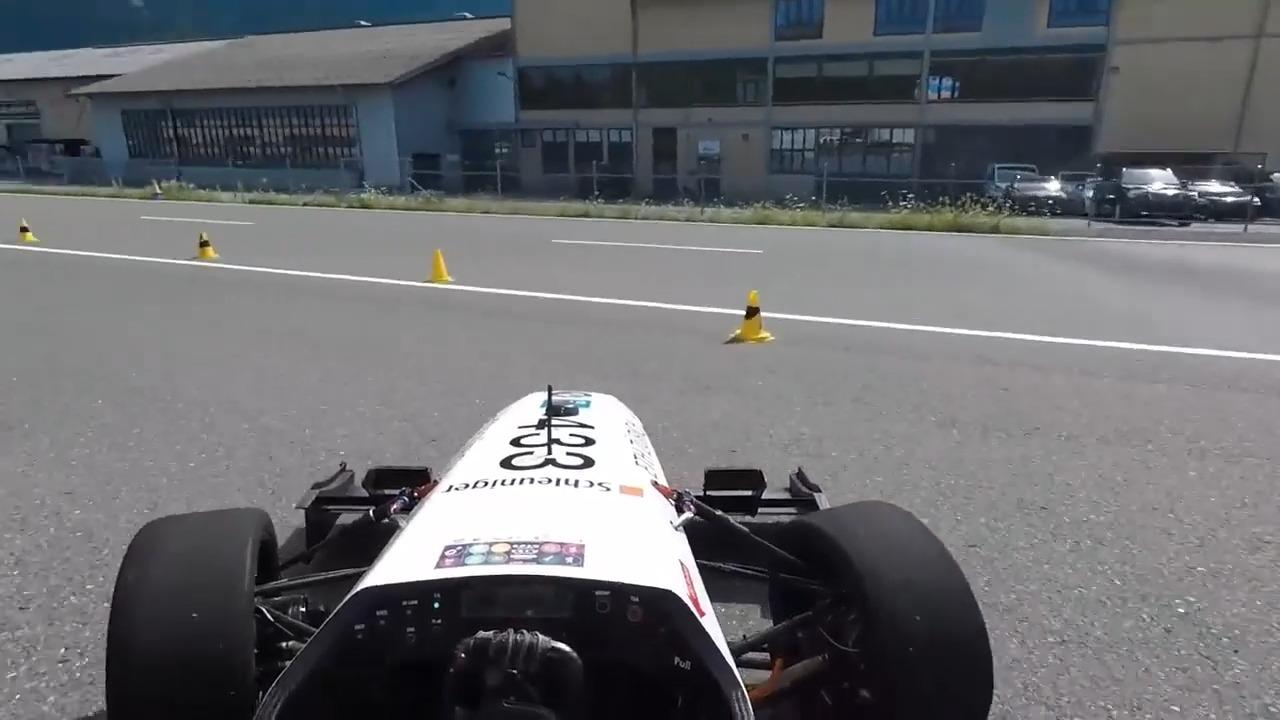yellow_cone: (709, 267, 780, 343), (11, 199, 62, 249), (417, 241, 463, 277), (185, 221, 227, 257)
